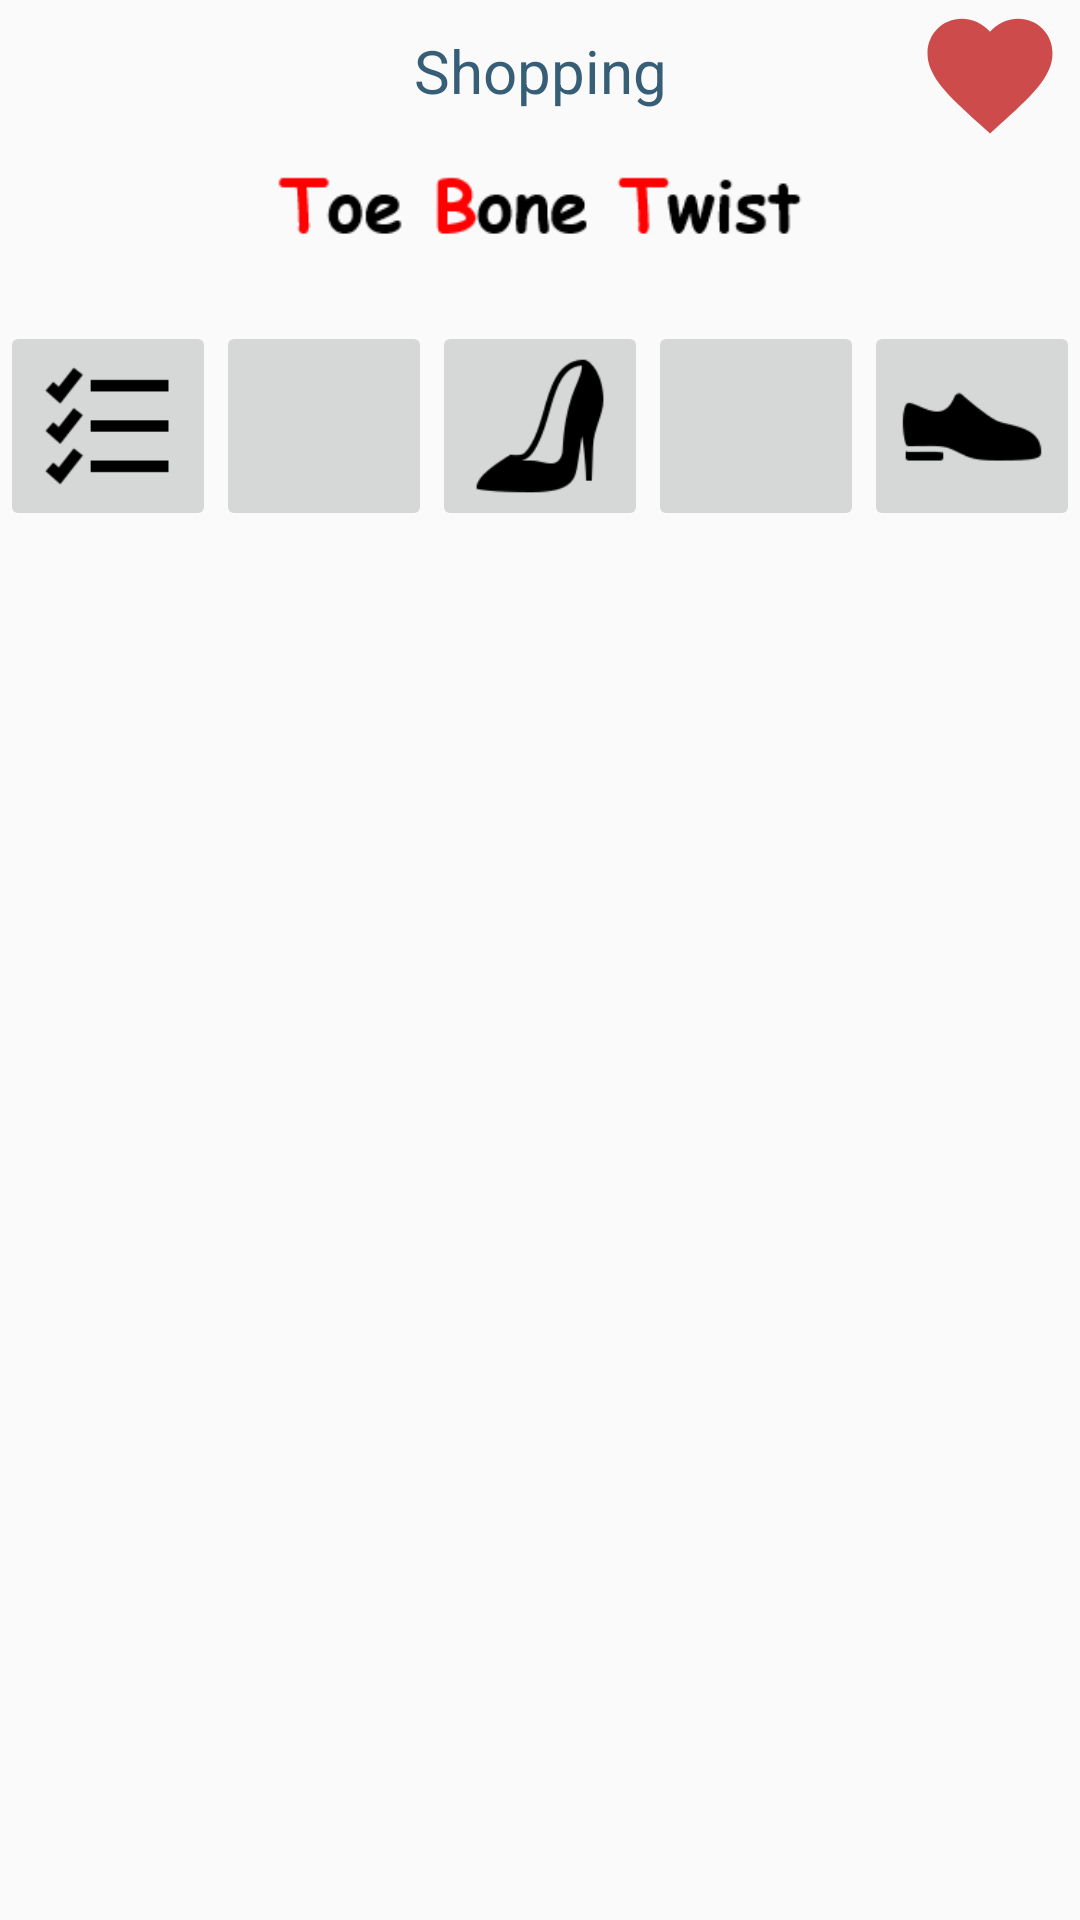

Point at icon controls on the screen. Image size 1080px x 1920px, points as [x,y].
all: [108,426]
favorite: [990,75]
highheel: [540,426]
